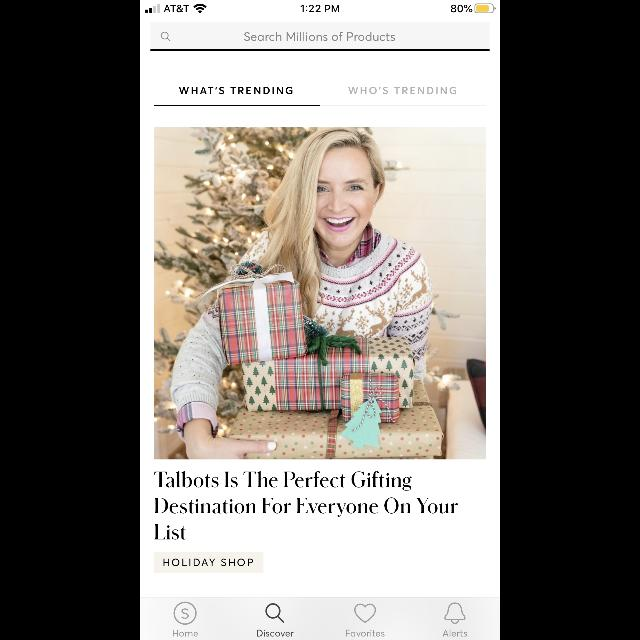icon: (444, 602, 466, 624), (354, 604, 376, 622), (266, 603, 284, 623), (161, 32, 171, 42)
image: (154, 127, 486, 459), (174, 602, 196, 624)
input: (150, 22, 490, 52)
text: (154, 470, 458, 540), (244, 32, 396, 42), (180, 87, 292, 95), (348, 87, 456, 95), (346, 630, 384, 636), (258, 630, 294, 636), (174, 630, 198, 636), (443, 630, 467, 636)
textbutton: (154, 552, 264, 574)
uppertaskbar: (140, 0, 500, 14)
